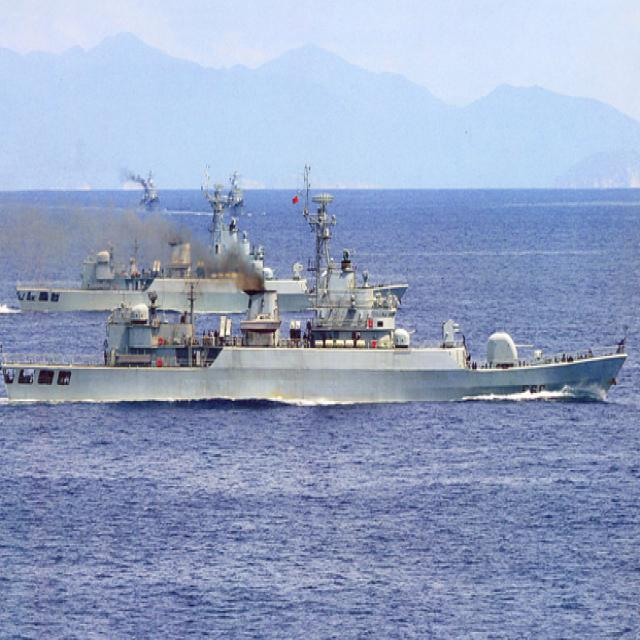navalvessels: (4, 206, 626, 408), (13, 194, 316, 319), (201, 163, 245, 216), (135, 165, 164, 210)
